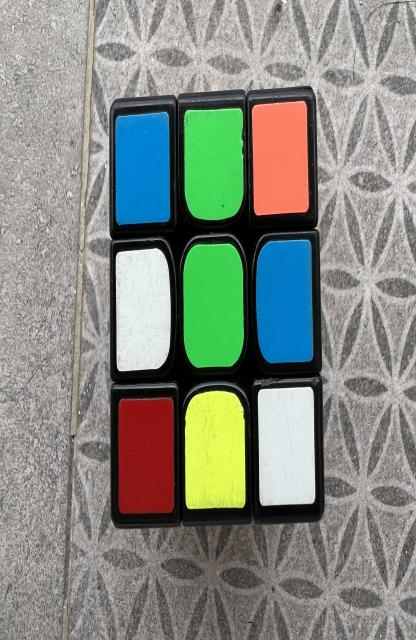Blue: (256, 240, 313, 363), (115, 112, 170, 225)
Green: (184, 243, 244, 368), (184, 108, 244, 220)
Orange: (252, 102, 309, 215)
Red: (119, 398, 174, 513)
White: (115, 248, 171, 372), (258, 387, 315, 507)
Yellow: (185, 390, 245, 508)
